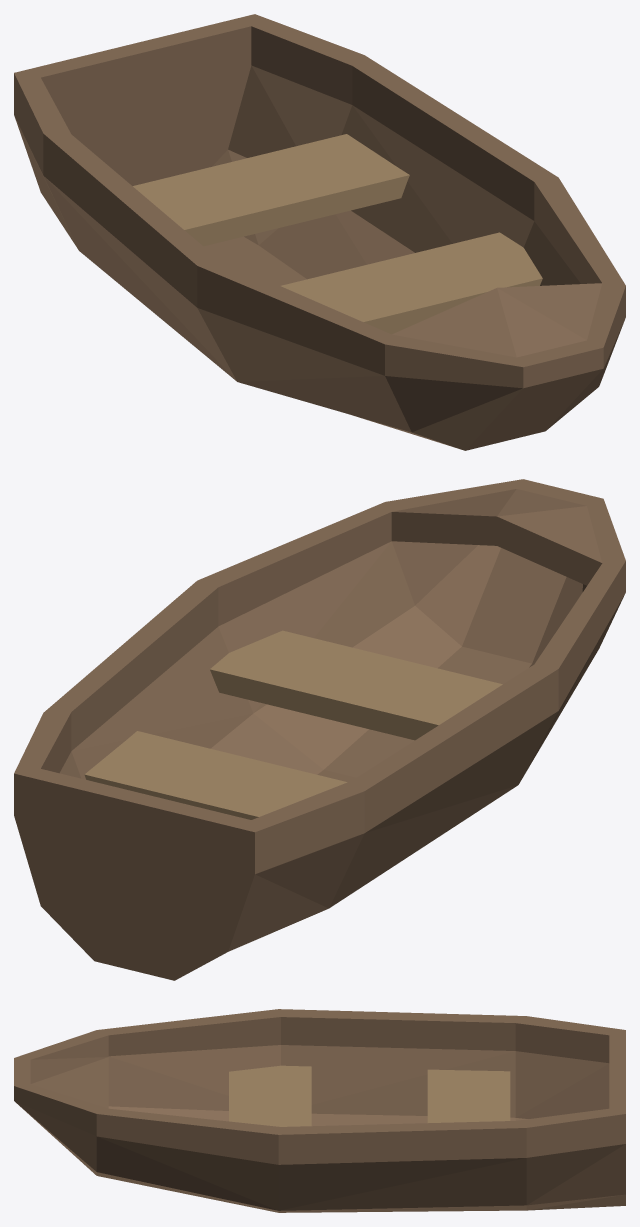
File: Prop_Boat_1.glb
The picture shows the model from 3 angles, top to bottom: view 1: azimuth 30°, elevation 25°; view 2: azimuth 150°, elevation 25°; view 3: azimuth 270°, elevation 25°; orthographic projection. The views are drawn at different scales.
Visible parts, largest first — view 1: Prop_Boat_1; view 2: Prop_Boat_1; view 3: Prop_Boat_1.
Part boxes in pixels (x1=…): Prop_Boat_1: x1=14, y1=14, x2=625, y2=450; Prop_Boat_1: x1=14, y1=479, x2=625, y2=980; Prop_Boat_1: x1=14, y1=1009, x2=625, y2=1212.
Size of the model in its own units: 1.12 by 0.5625 by 2.31.
